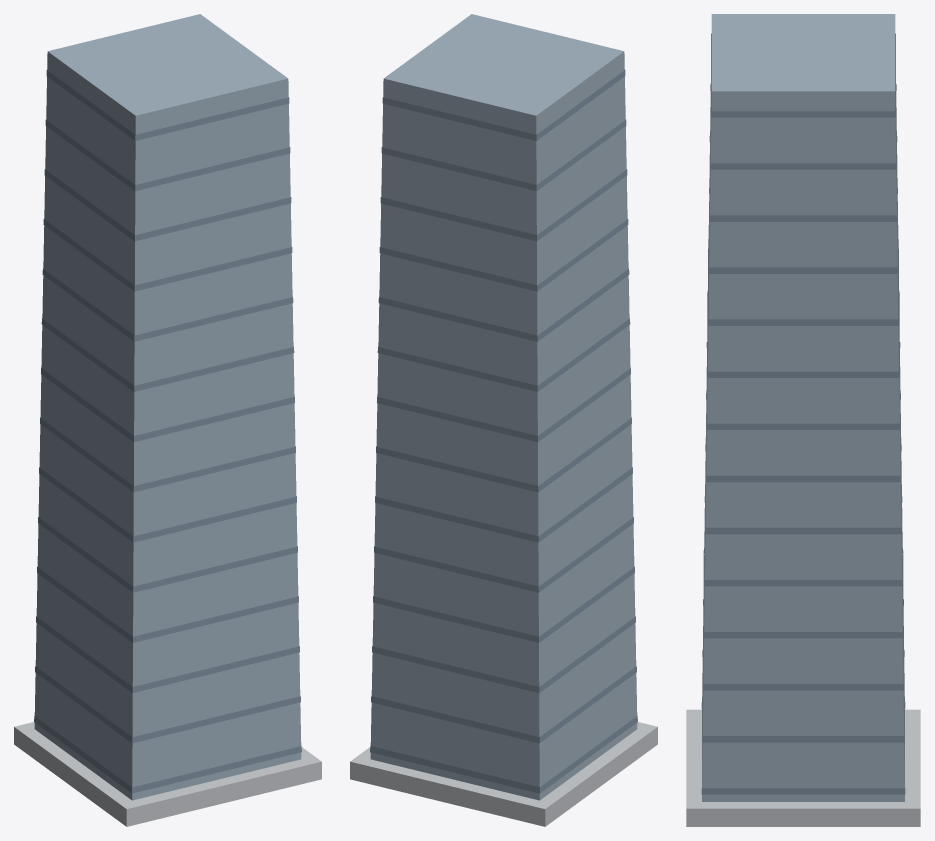
Rendered from torrepicasso.glb.
3 renders of one model, left to right at view 1: azimuth 30°, elevation 25°; view 2: azimuth 150°, elevation 25°; view 3: azimuth 270°, elevation 25°, orthographic. The views are drawn at different scales.
Size of the model in its own units: 46 by 157 by 46.
